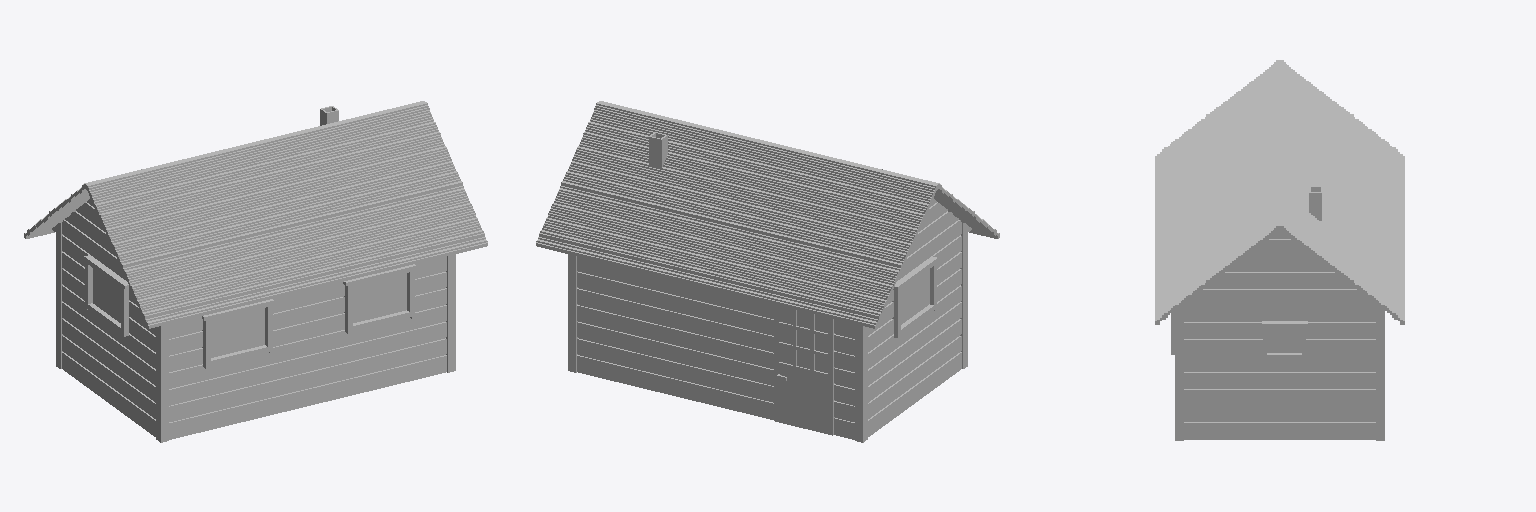
Rendered from fishing home 1.obj.
3 renders of one model, left to right at view 1: azimuth 30°, elevation 25°; view 2: azimuth 150°, elevation 25°; view 3: azimuth 270°, elevation 25°, orthographic.
Parts seen in each view (by area): view 1: object 1; view 2: object 1; view 3: object 1.
Boxes of the visible parts, <box> form: object 1: <box>24,101,487,442</box>; object 1: <box>536,101,999,442</box>; object 1: <box>1155,60,1404,440</box>.
Bounding box in the file's own units: 21.3 × 13.5 × 13.6.